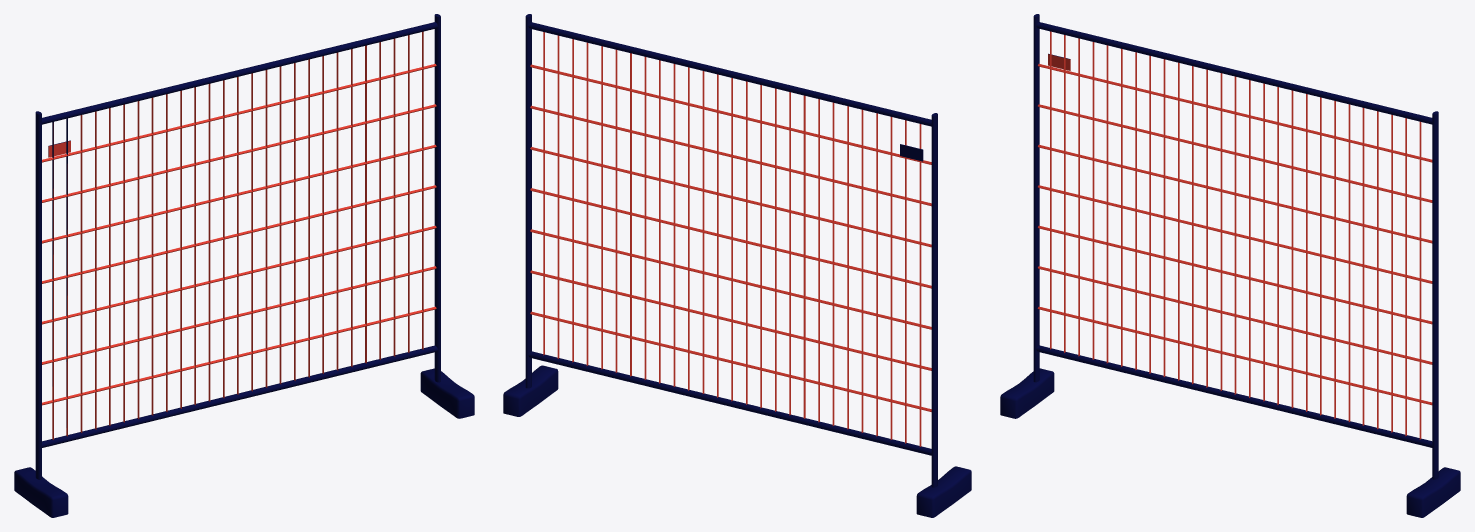
The model's file is wallPrefub.fbx.
The picture shows the model from 3 angles, left to right: view 1: azimuth 30°, elevation 25°; view 2: azimuth 150°, elevation 25°; view 3: azimuth 330°, elevation 25°; orthographic projection.
Visible parts, largest first — view 1: wire_fence; view 2: wire_fence; view 3: wire_fence.
Part boxes in pixels (bbox=[...]): wire_fence: bbox=[14, 14, 474, 517]; wire_fence: bbox=[503, 14, 971, 517]; wire_fence: bbox=[1000, 14, 1460, 517].
Bounding box in the file's own units: 230 × 199 × 36.41.
